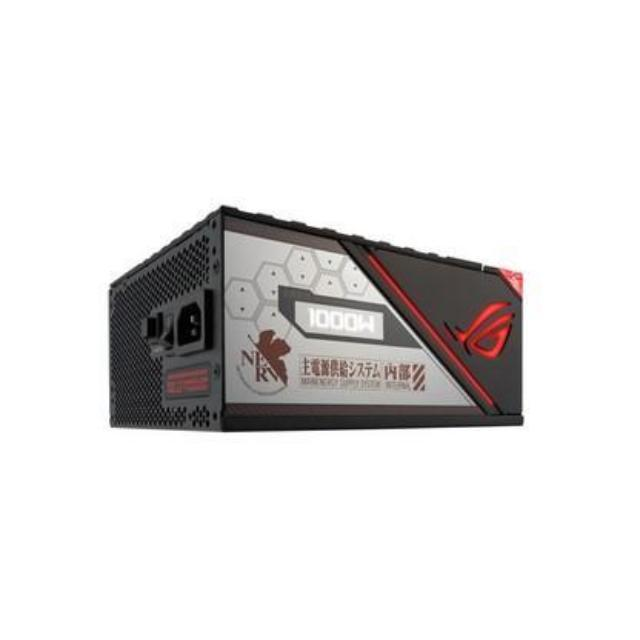PSU: (88, 182, 534, 469)
